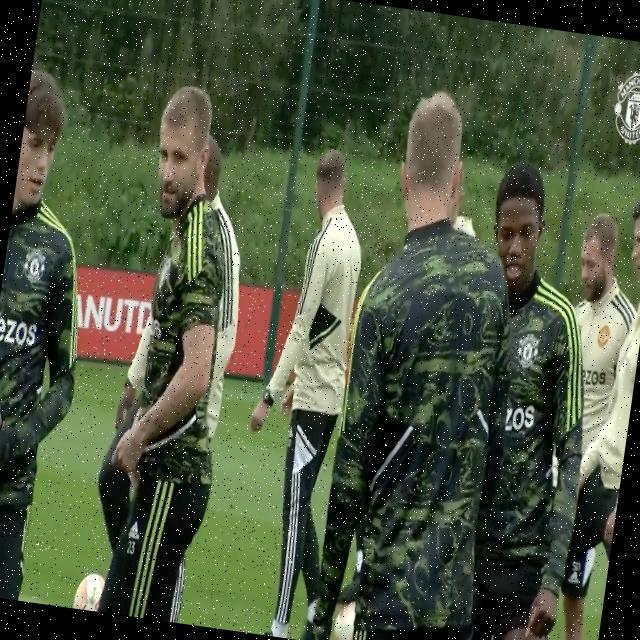Adidas: (128, 520, 143, 543), (568, 571, 582, 588)
